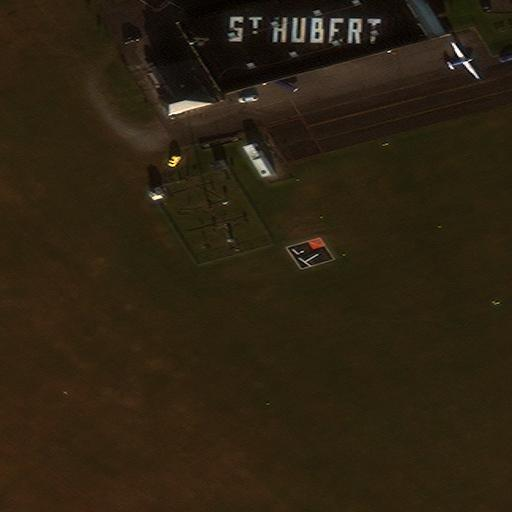Medium Civil Transport: (447, 41, 480, 79)
